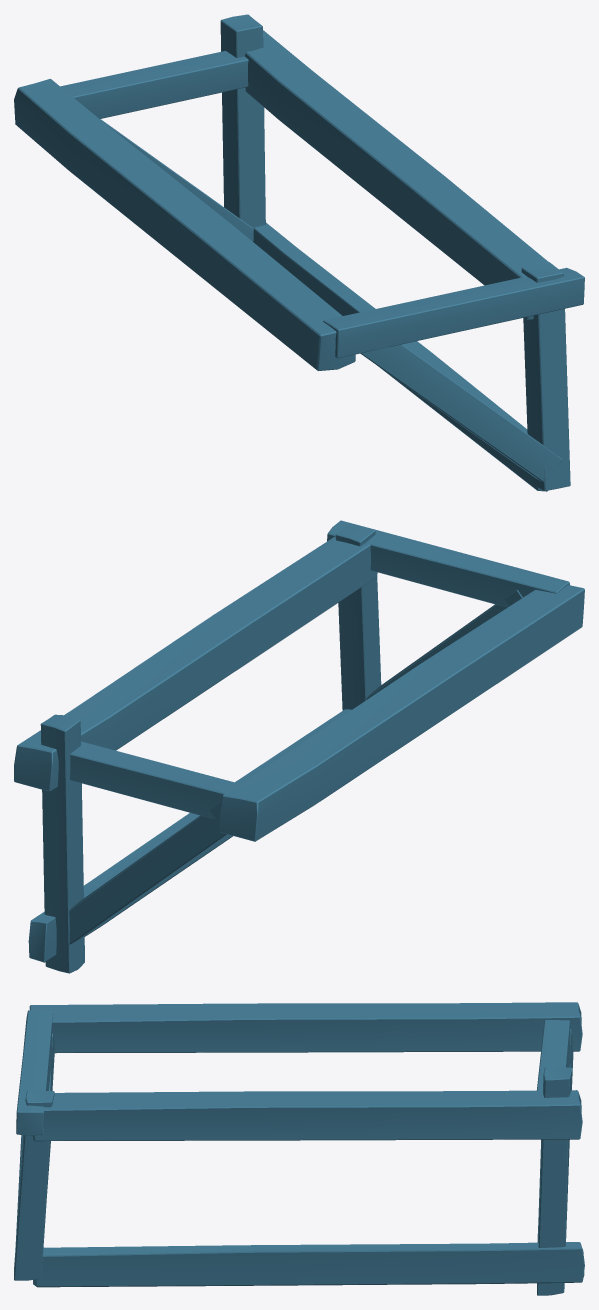
File: Beam_Structure_03A_Lod0.fbx
The picture shows the model from 3 angles, top to bottom: view 1: azimuth 30°, elevation 25°; view 2: azimuth 150°, elevation 25°; view 3: azimuth 270°, elevation 25°; orthographic projection. The views are drawn at different scales.
Visible parts, largest first — view 1: Beam_Structure_03A_Lod0; view 2: Beam_Structure_03A_Lod0; view 3: Beam_Structure_03A_Lod0.
Boxes of the visible parts, x1=… form: Beam_Structure_03A_Lod0: x1=14, y1=14, x2=584, y2=491; Beam_Structure_03A_Lod0: x1=14, y1=520, x2=584, y2=973; Beam_Structure_03A_Lod0: x1=14, y1=1002, x2=584, y2=1295.
Size of the model in its own units: 125 by 115 by 273.
